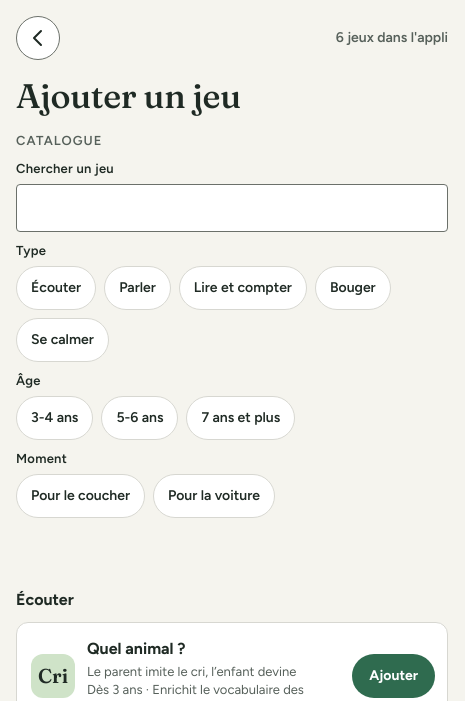
Test: les filtres se cumulent, se retirent d’un geste et sont nommés pour le lecteur d’écran
Click the button "Parler": (137, 288) left=104, top=266, right=171, bottom=310
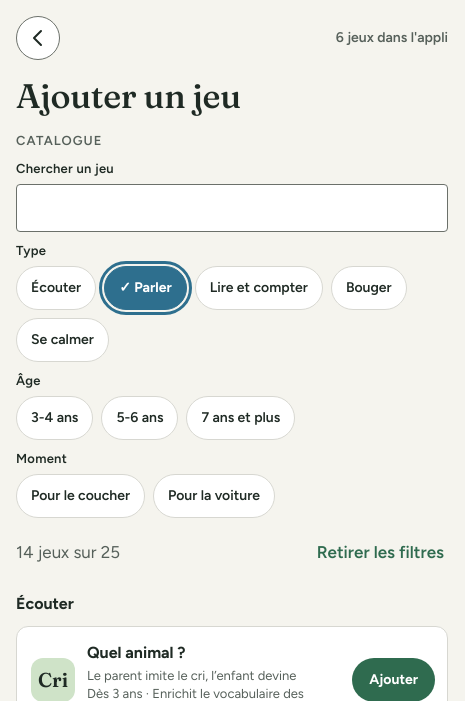
expect the message reads "14 jeux sur 25": met, box left=16, top=542, right=120, bottom=562
Click the button "Pour la voiture": (214, 496) left=153, top=474, right=275, bottom=518
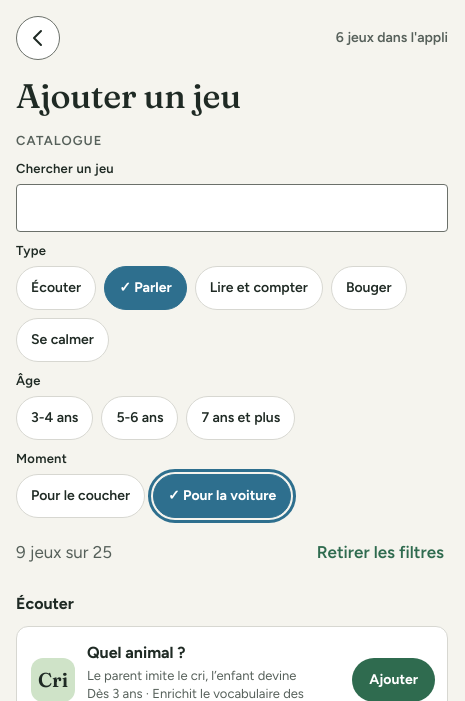
Click the button "7 ans et plus": (241, 418) left=186, top=396, right=295, bottom=440
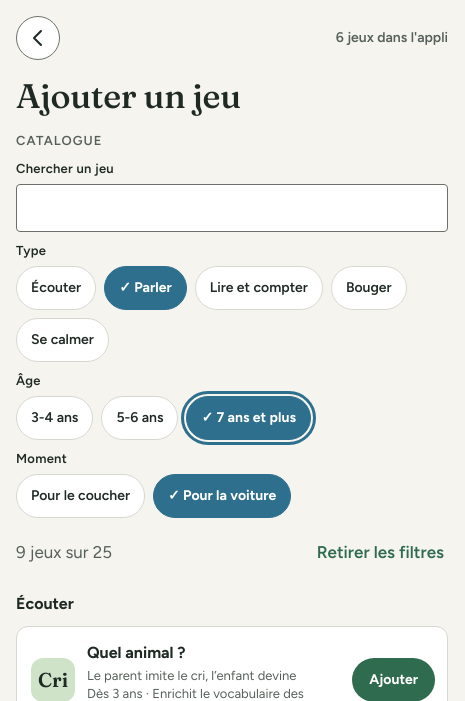
// Un geste : toucher de nouveau la pastille choisie la retire.
Click the button "✓ Parler": (145, 288) left=104, top=266, right=187, bottom=310
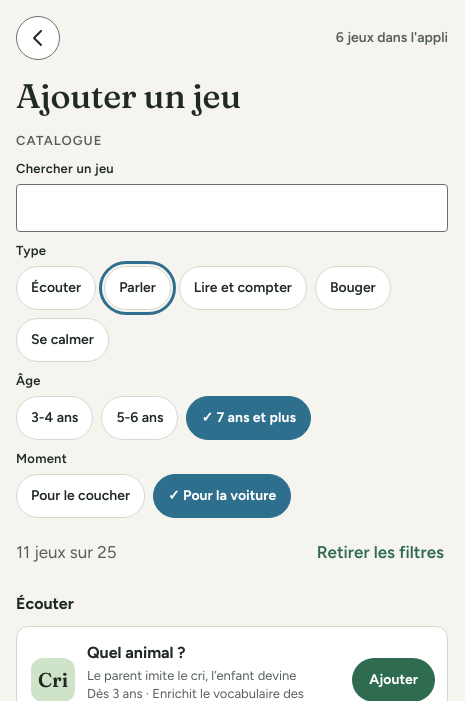
expect the button "Parler" is not pressed: met, box left=104, top=266, right=171, bottom=310
// Ou tout retirer d'un coup.
Click the button "Retirer les filtres": (380, 552) left=313, top=528, right=448, bottom=576
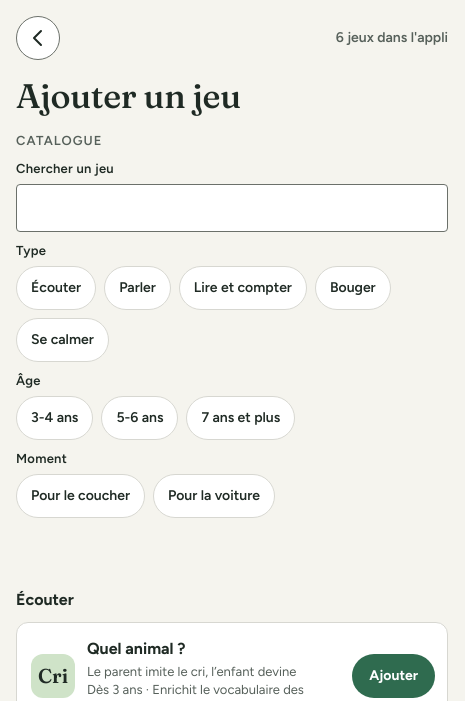
expect no the button "Retirer les filtres" are shown: met
